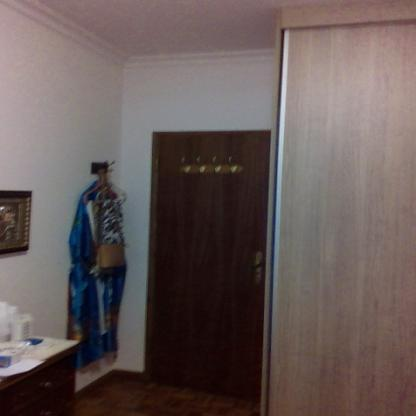door: (156, 138, 267, 388)
hinged: (155, 156, 159, 170)
knob: (252, 259, 261, 270)
